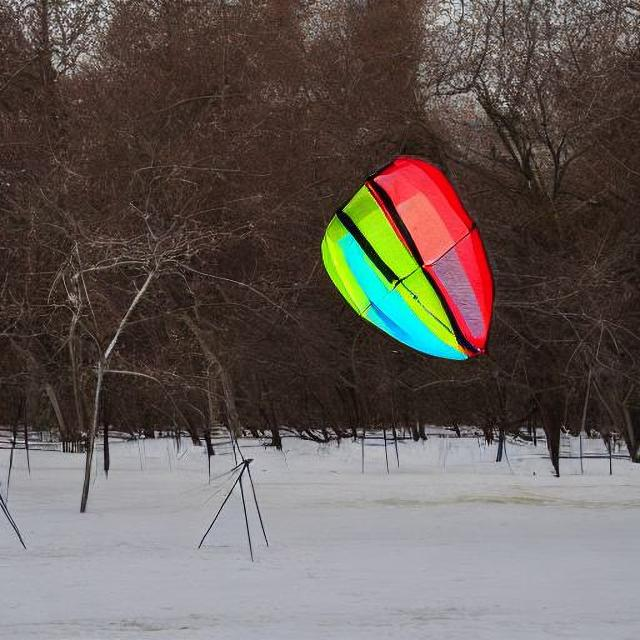floating object: (317, 157, 491, 362)
